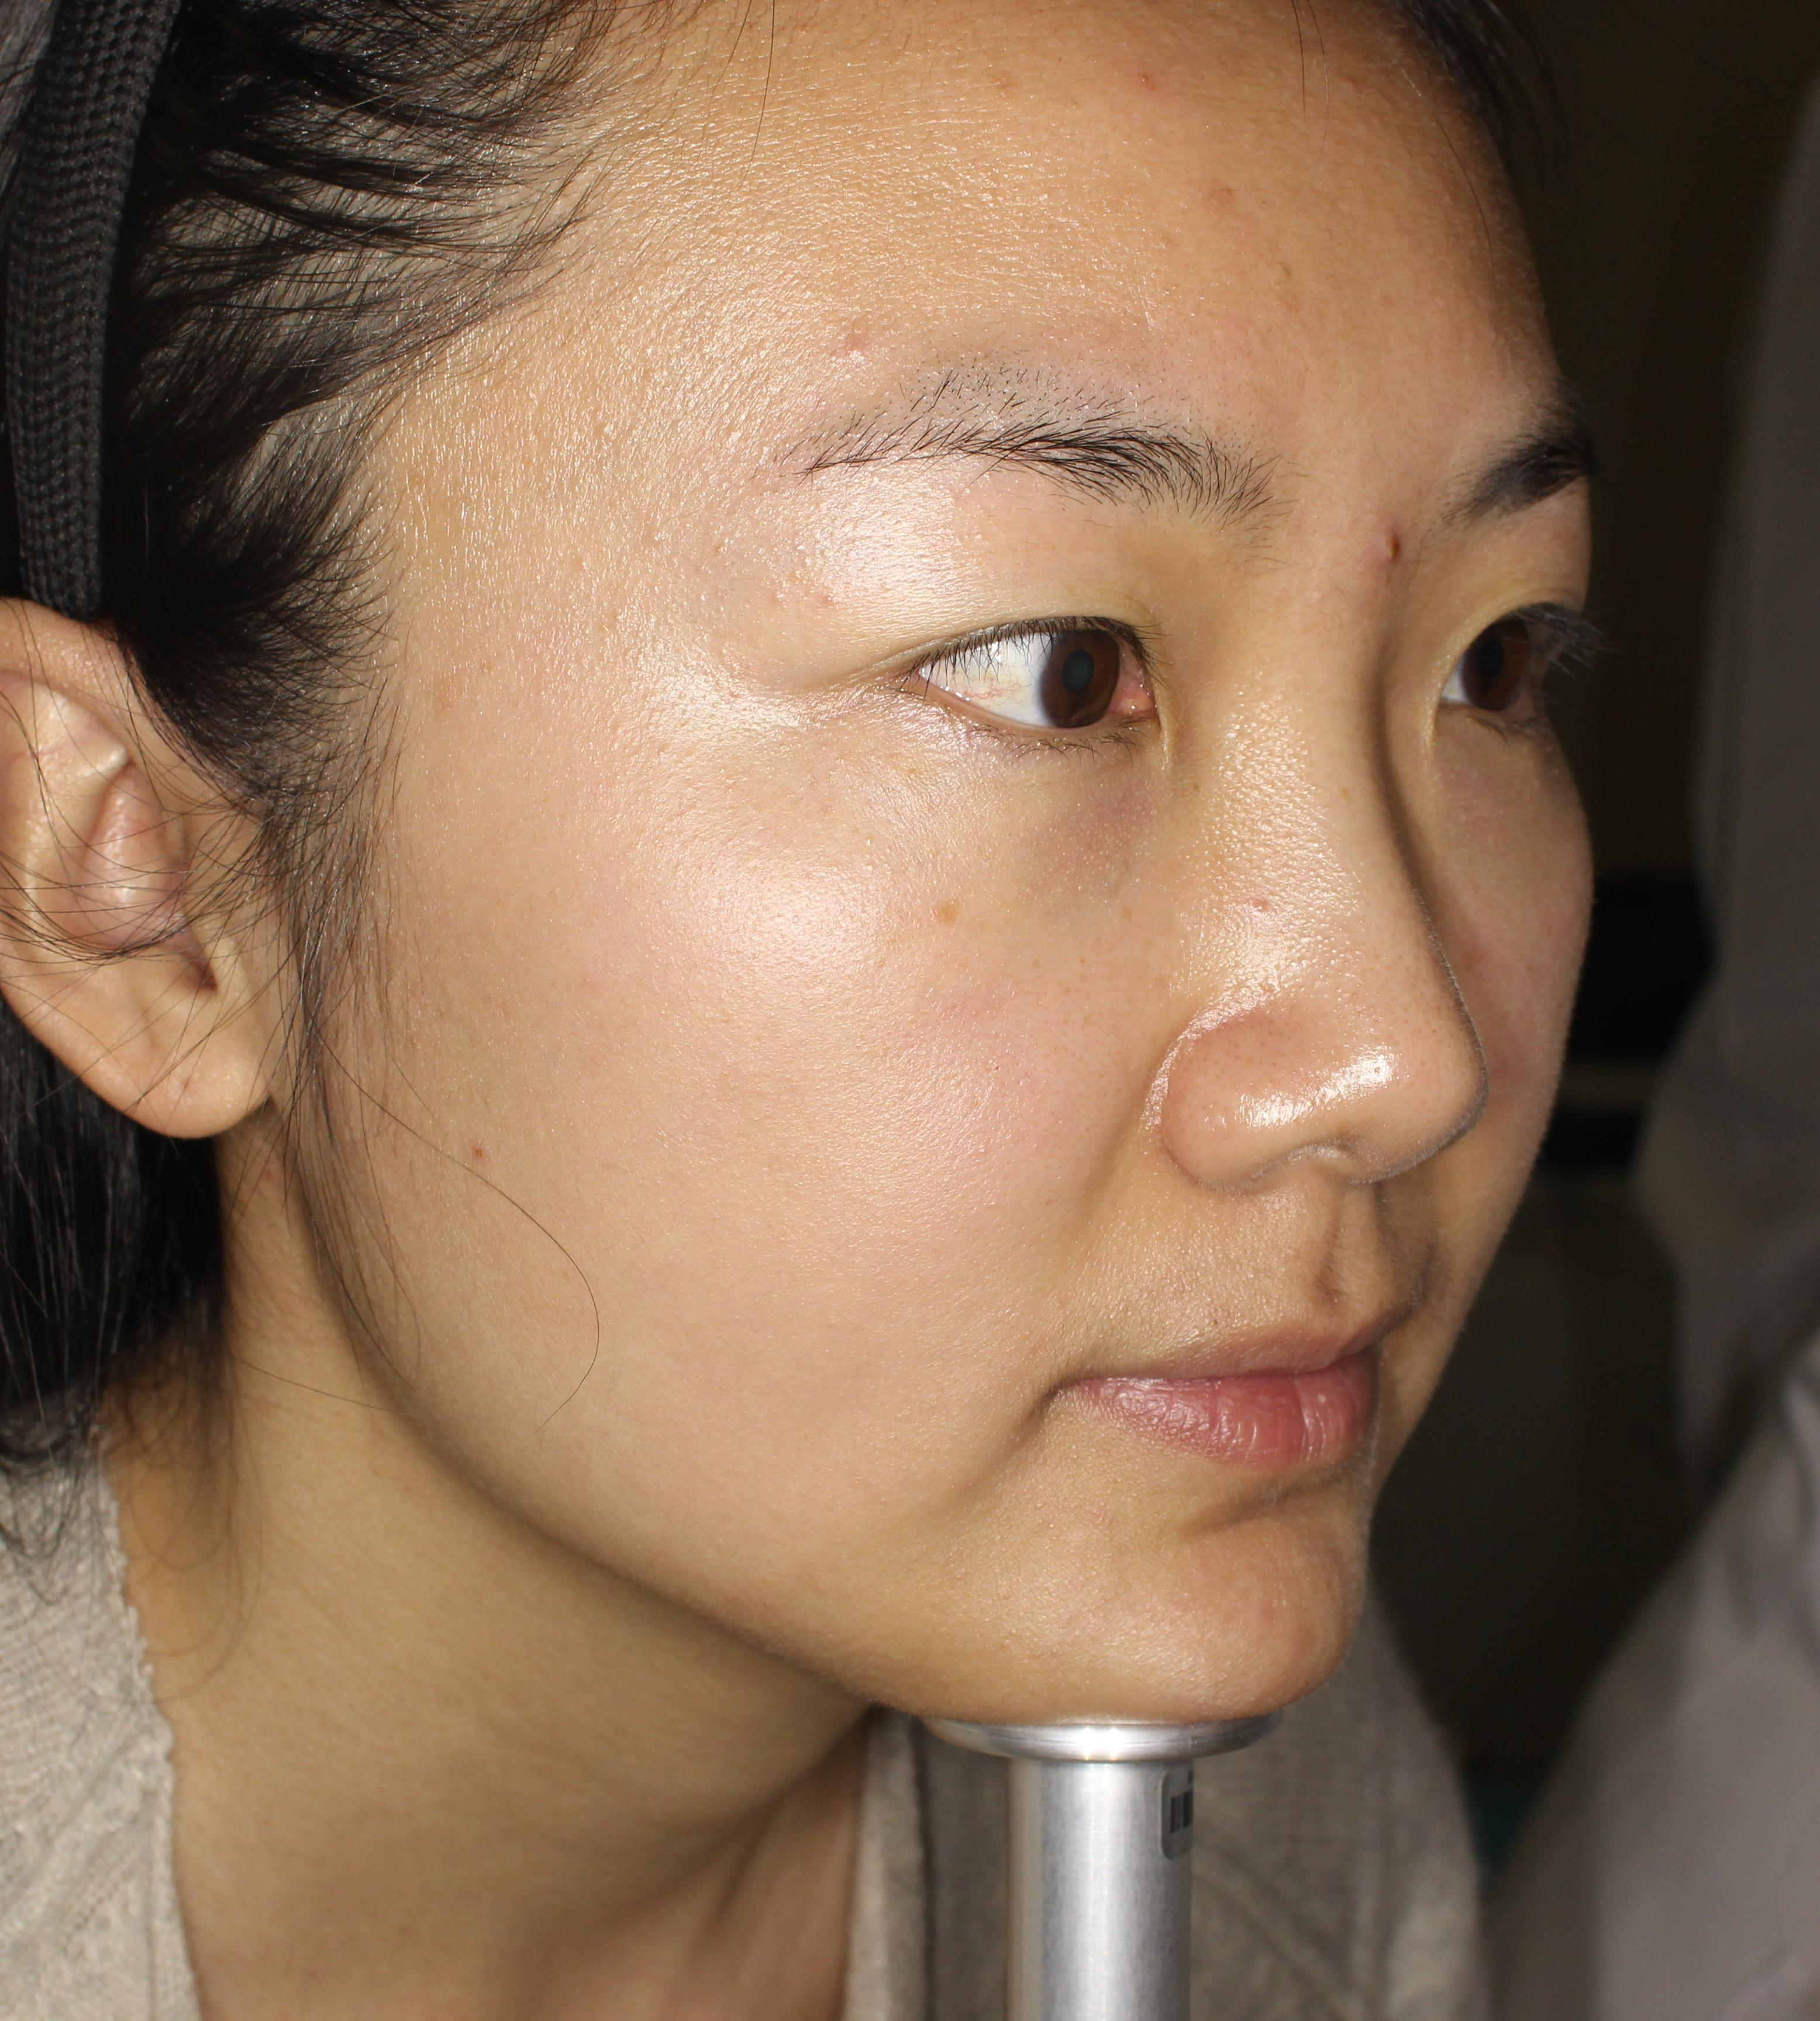fore: (1360, 514, 1421, 590)
